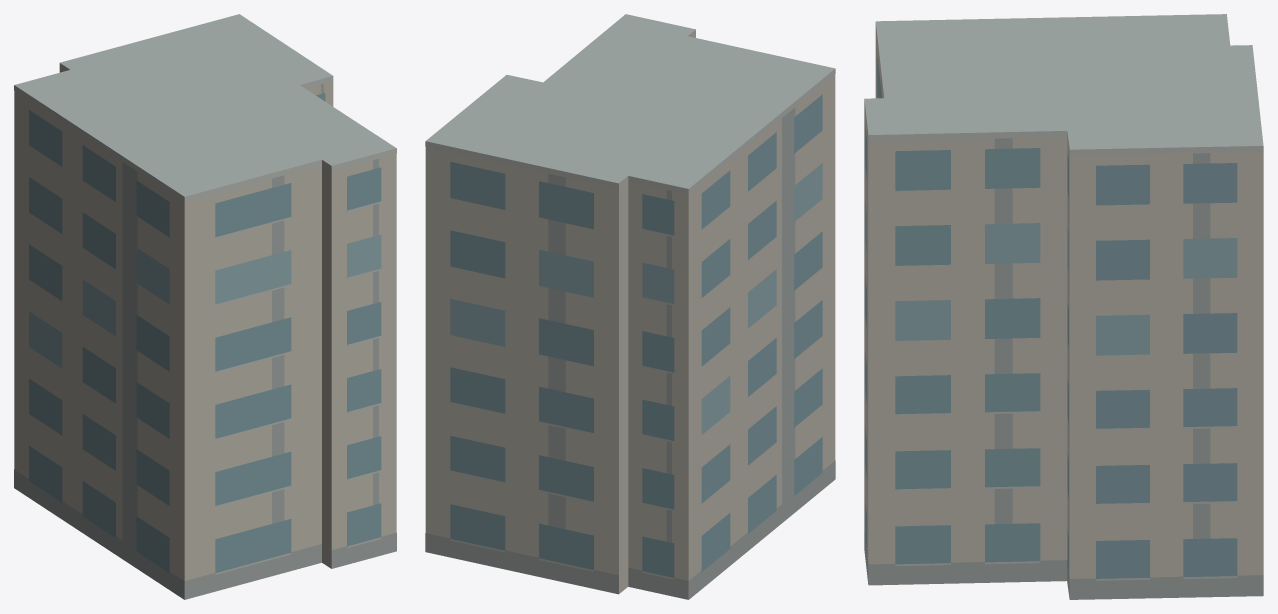
Rendered from survey-upis-32921184.glb.
3 views of the same model, side by side, from view 1: azimuth 30°, elevation 25°; view 2: azimuth 150°, elevation 25°; view 3: azimuth 270°, elevation 25° (orthographic). The views are drawn at different scales.
Visible parts, largest first — view 1: survey-upis-32921184.tmp; view 2: survey-upis-32921184.tmp; view 3: survey-upis-32921184.tmp.
Part boxes in pixels (left/top/right/bottom): survey-upis-32921184.tmp: left=14, top=14, right=396, bottom=599; survey-upis-32921184.tmp: left=425, top=14, right=835, bottom=599; survey-upis-32921184.tmp: left=864, top=14, right=1263, bottom=599.
Size of the model in its own units: 11.51 by 17.8 by 14.31.
